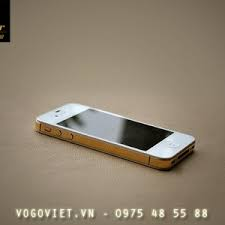iphone: (30, 99, 199, 172)
iphone4: (29, 99, 198, 172)
